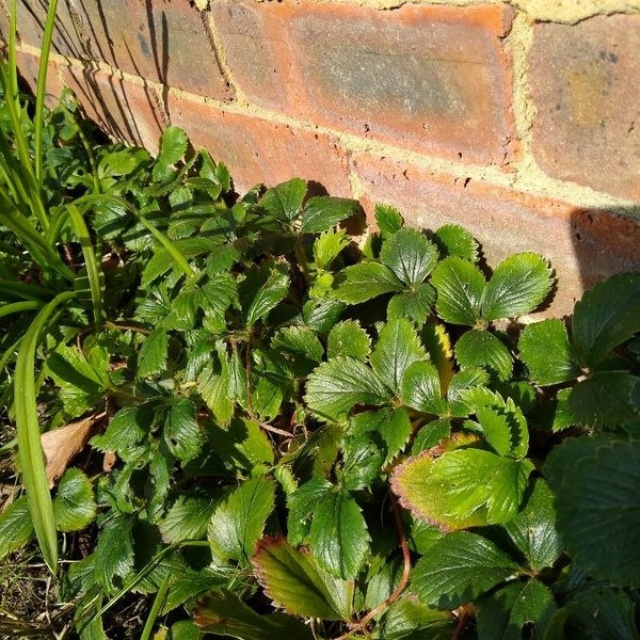obstacle: (69, 135, 518, 620), (1, 282, 432, 599)
